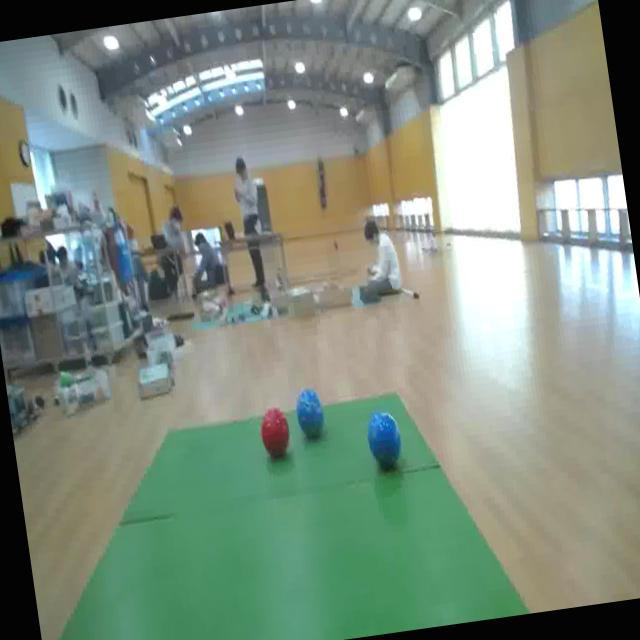blue_ball: (363, 404, 407, 476), (292, 385, 330, 444)
red_ball: (256, 404, 295, 465)
